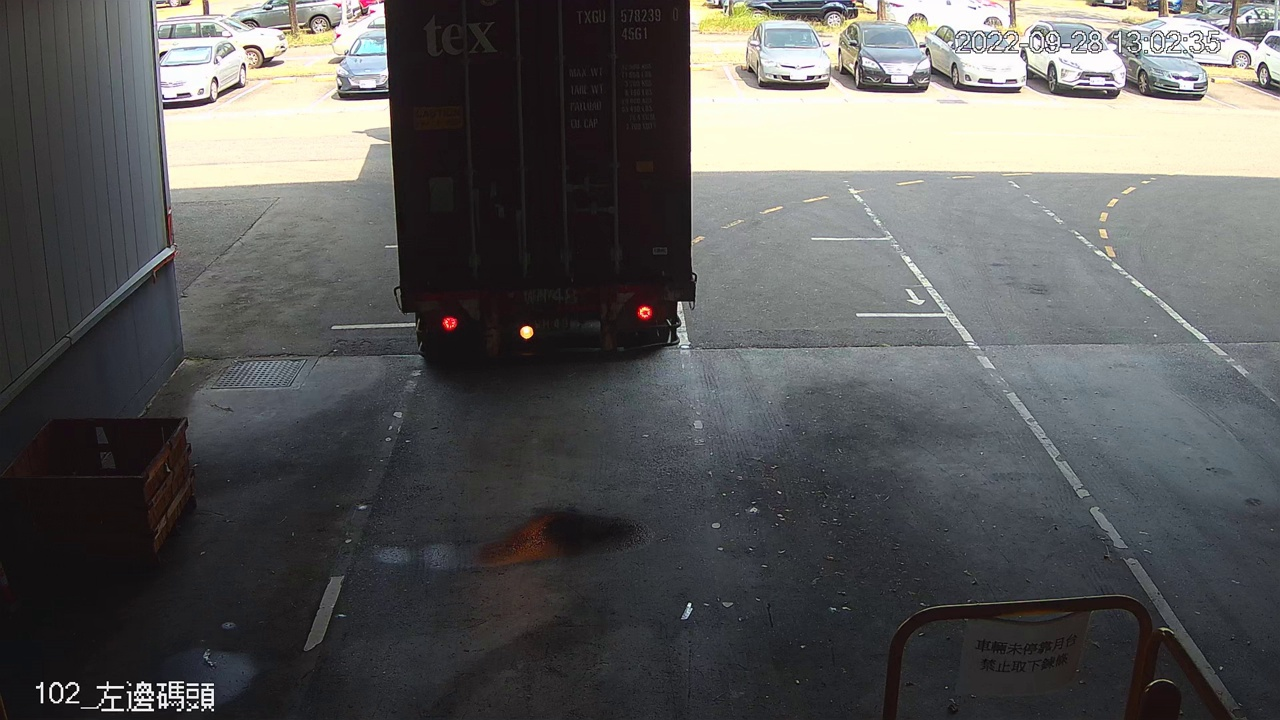container: (571, 3, 684, 46)
